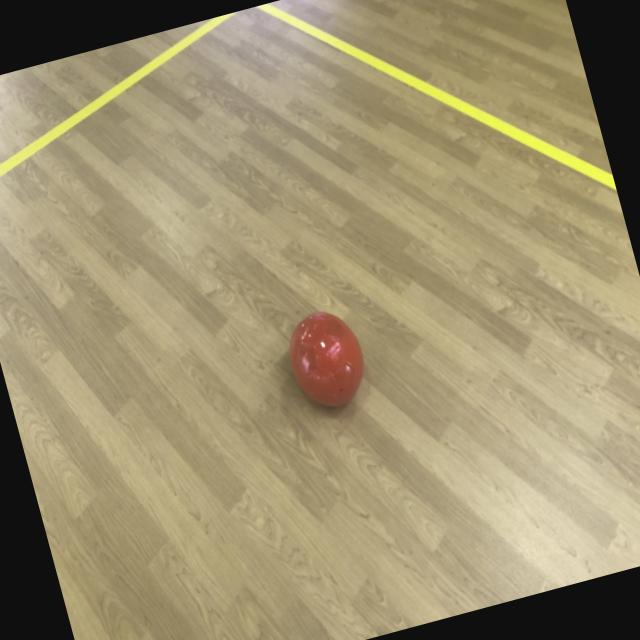red_ball: (281, 304, 372, 415)
